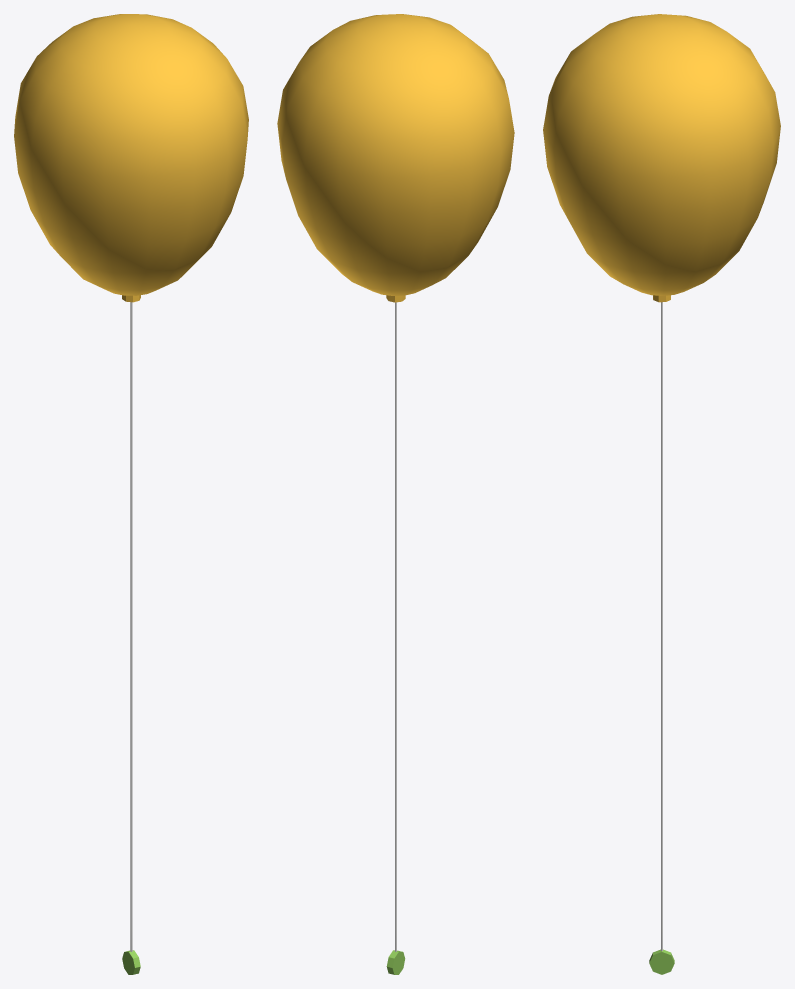
The model's file is BalloonD.fbx.
The picture shows the model from 3 angles, left to right: view 1: azimuth 30°, elevation 25°; view 2: azimuth 150°, elevation 25°; view 3: azimuth 270°, elevation 25°; orthographic projection.
Parts seen in each view (by area): view 1: BalloonD; view 2: BalloonD; view 3: BalloonD.
Part boxes in pixels (bbox=[...]): BalloonD: bbox=[14, 14, 248, 974]; BalloonD: bbox=[277, 14, 514, 974]; BalloonD: bbox=[543, 14, 780, 974].
Bounding box in the file's own units: 275 × 1208 × 275.
